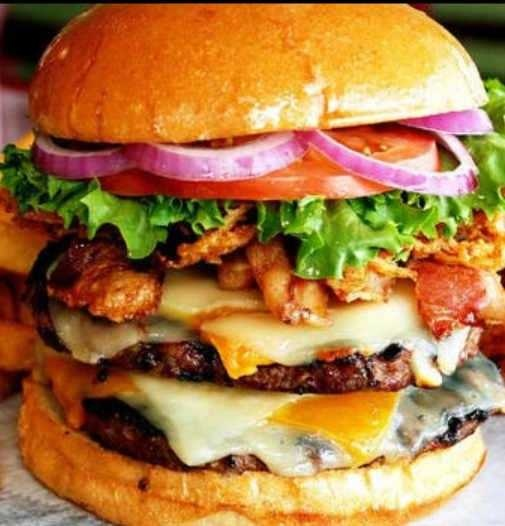hamburger: (28, 3, 497, 519)
